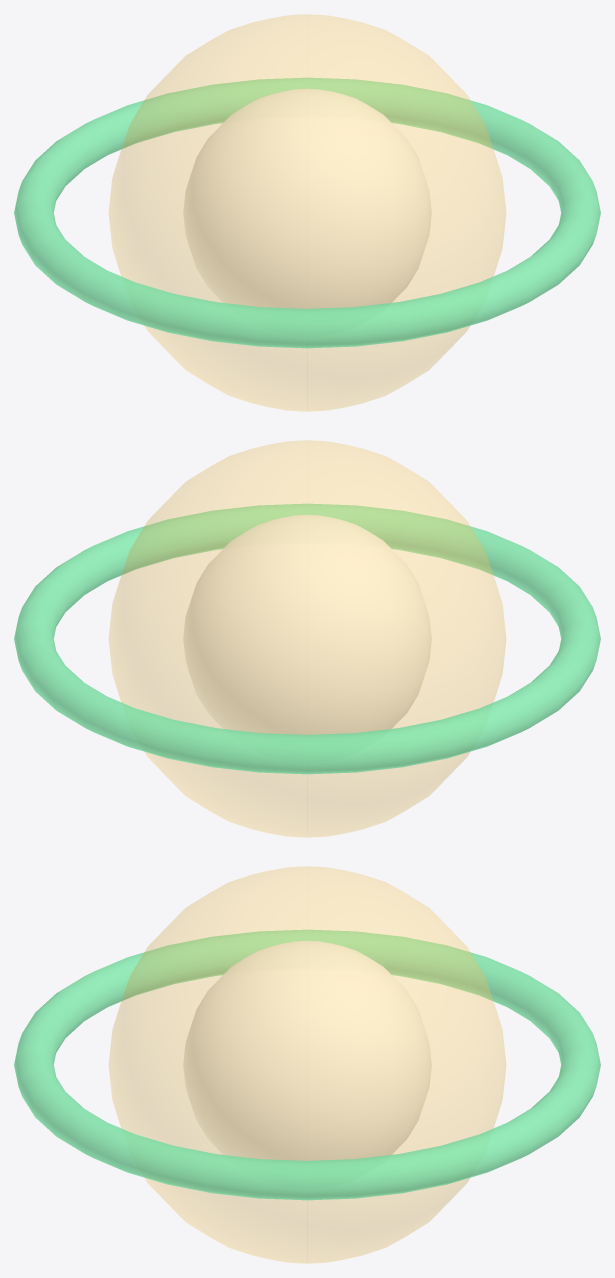
3 renders of one model, top to bottom at view 1: azimuth 30°, elevation 25°; view 2: azimuth 150°, elevation 25°; view 3: azimuth 270°, elevation 25°, orthographic.
Bounding box in the file's own units: 0.944 × 0.64 × 0.944.
